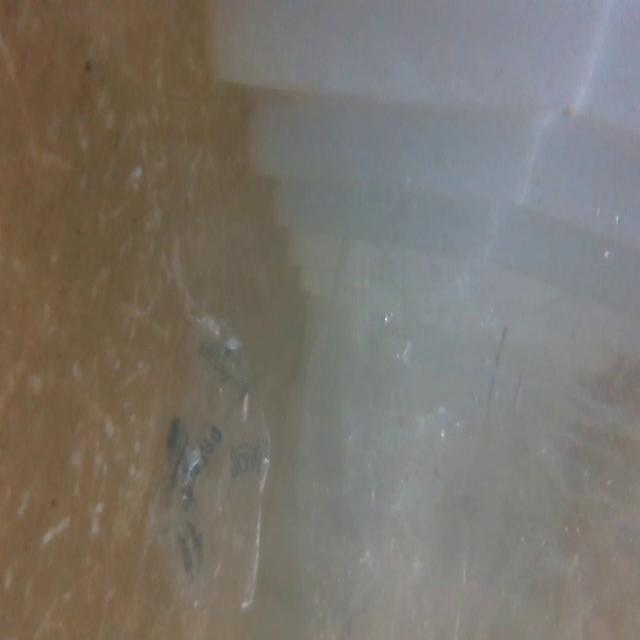plastic bags: (330, 190, 585, 640), (152, 307, 276, 624)
